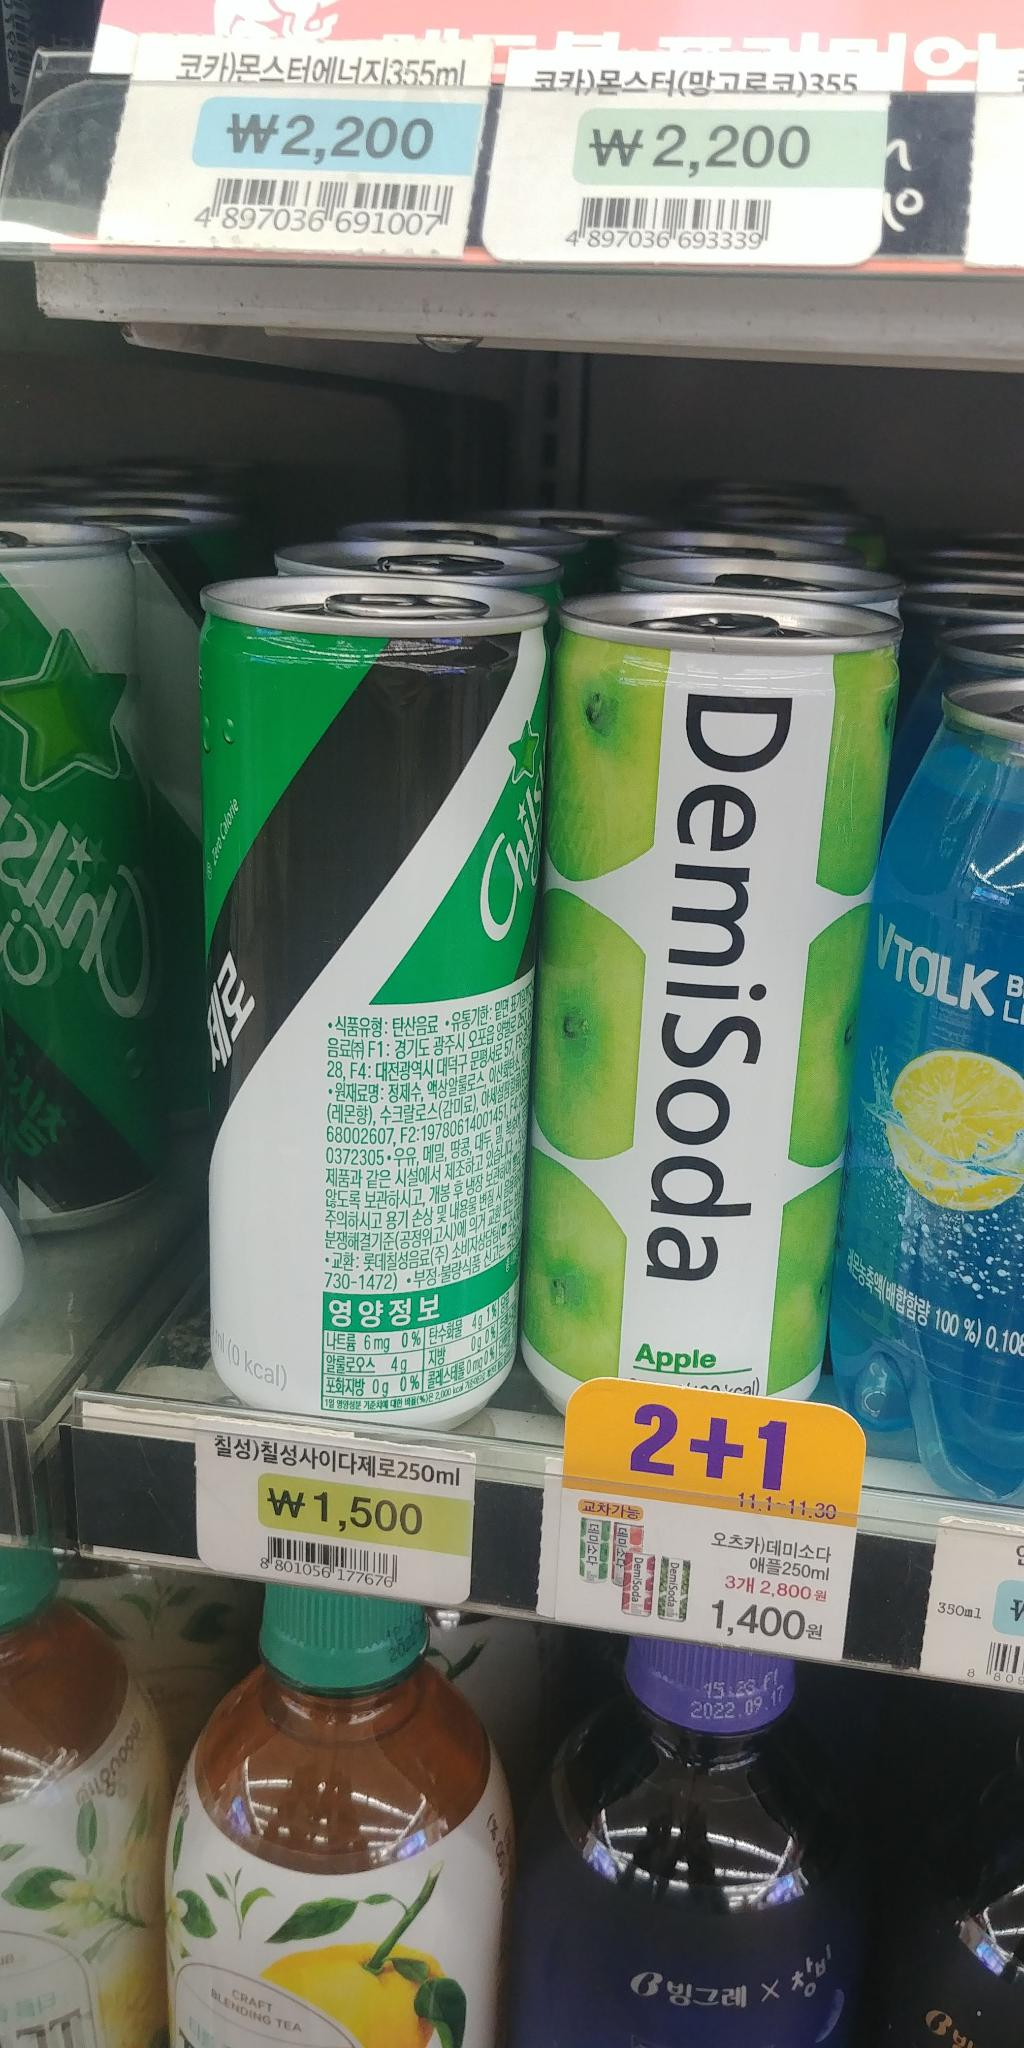chilsungcider_zero: (178, 562, 524, 1447)
